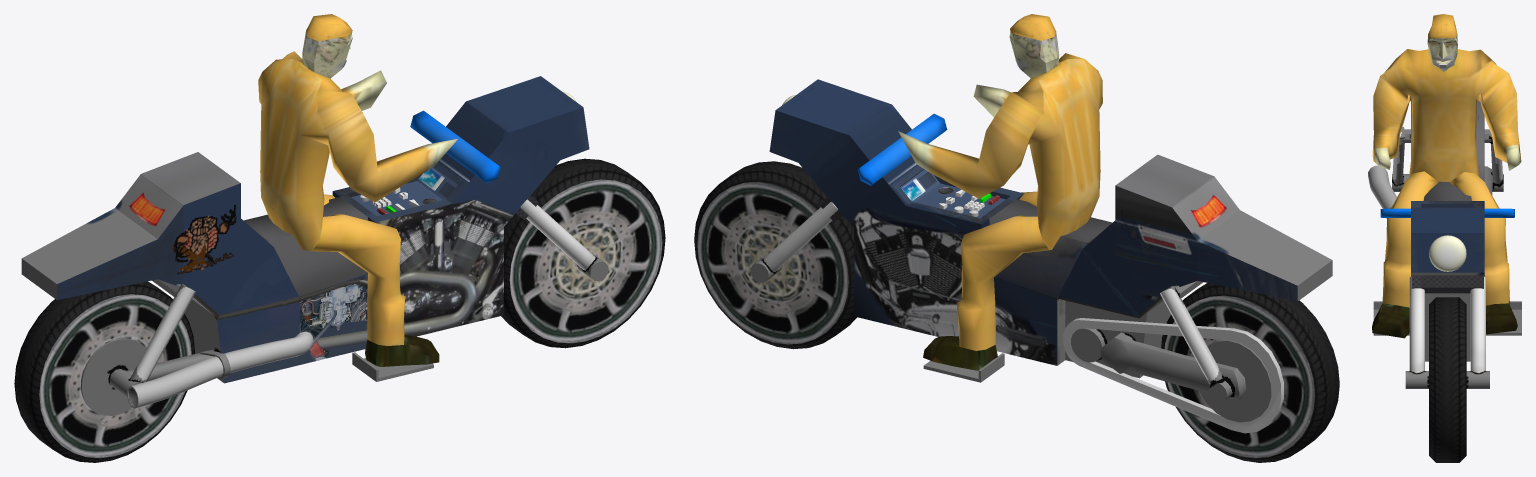
The model's file is motorcycle.glb.
3 renders of one model, left to right at view 1: azimuth 30°, elevation 25°; view 2: azimuth 150°, elevation 25°; view 3: azimuth 270°, elevation 25°, orthographic. The views are drawn at different scales.
Parts seen in each view (by area): view 1: Object_3, Object_2; view 2: Object_3, Object_2; view 3: Object_2, Object_3.
Part boxes in pixels (bbox=[...]): Object_3: bbox=[14, 76, 665, 462]; Object_2: bbox=[258, 14, 458, 366]; Object_3: bbox=[694, 79, 1339, 462]; Object_2: bbox=[898, 14, 1102, 370]; Object_2: bbox=[1372, 14, 1521, 338]; Object_3: bbox=[1368, 100, 1521, 462].
Bounding box in the file's own units: 146 × 84.39 × 35.38.
Materials: 2 (2 with a texture image).
